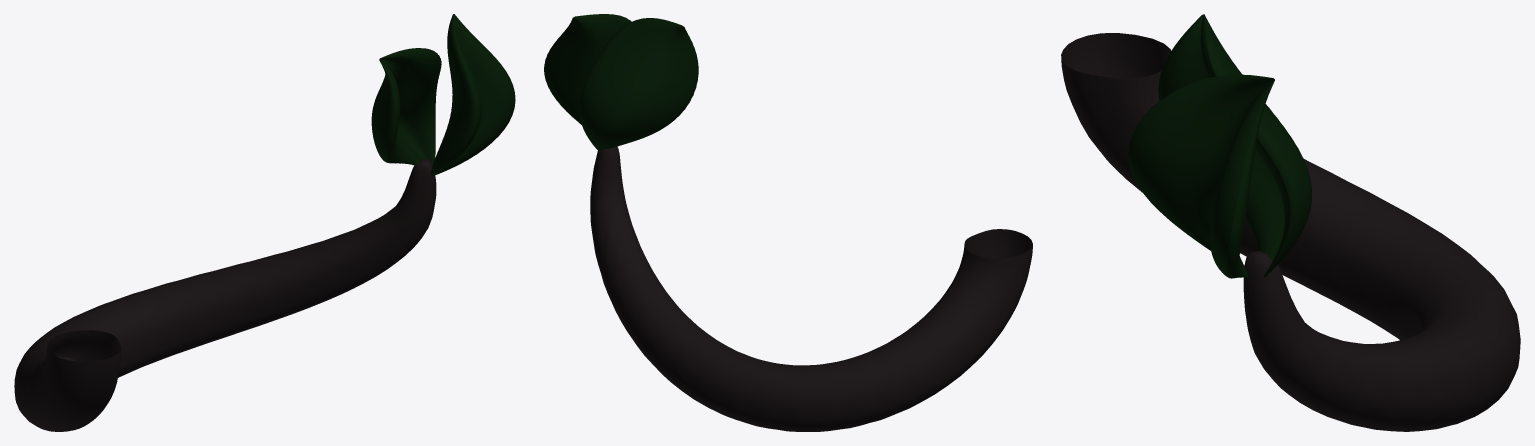
3 renders of one model, left to right at view 1: azimuth 30°, elevation 25°; view 2: azimuth 150°, elevation 25°; view 3: azimuth 270°, elevation 25°, orthographic. The views are drawn at different scales.
Visible parts, largest first — view 1: tail_001; view 2: tail_001; view 3: tail_001.
Boxes of the visible parts, x1,y1,x2,y2 form: tail_001: [14, 14, 515, 431]; tail_001: [544, 14, 1032, 431]; tail_001: [1061, 14, 1520, 431].
Bounding box in the file's own units: 125 × 67.5 × 81.52.
